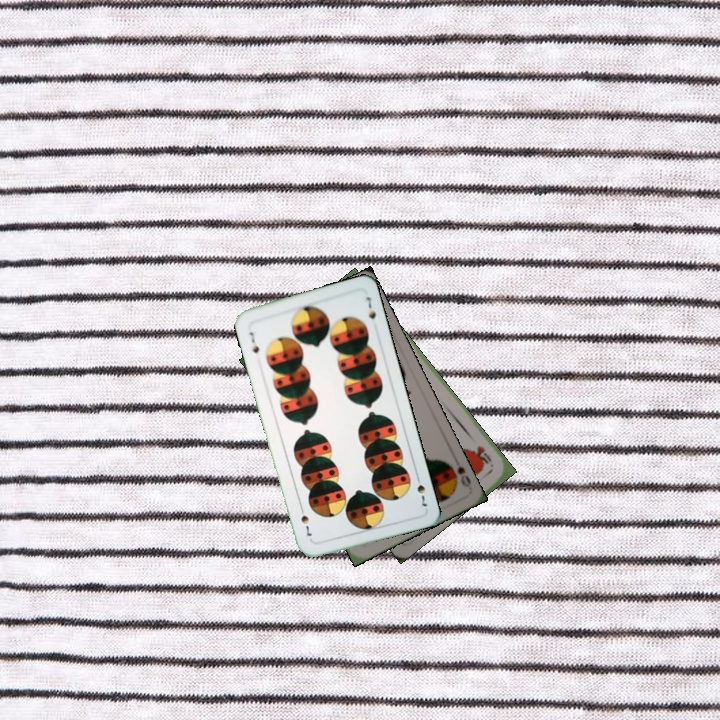HO: (469, 441, 494, 467)
S7: (412, 471, 431, 509), (245, 328, 262, 358)
SO: (441, 457, 474, 490)
